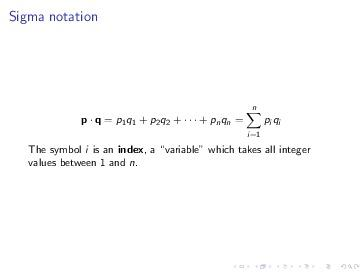paragraph: (22, 94, 327, 186)
title: (6, 5, 104, 29)
